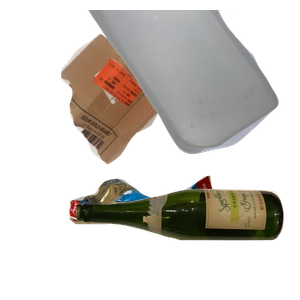cardboard: (58, 31, 222, 188)
glass: (74, 186, 300, 300)
plastic: (84, 10, 300, 157)
trash: (66, 173, 272, 300)
